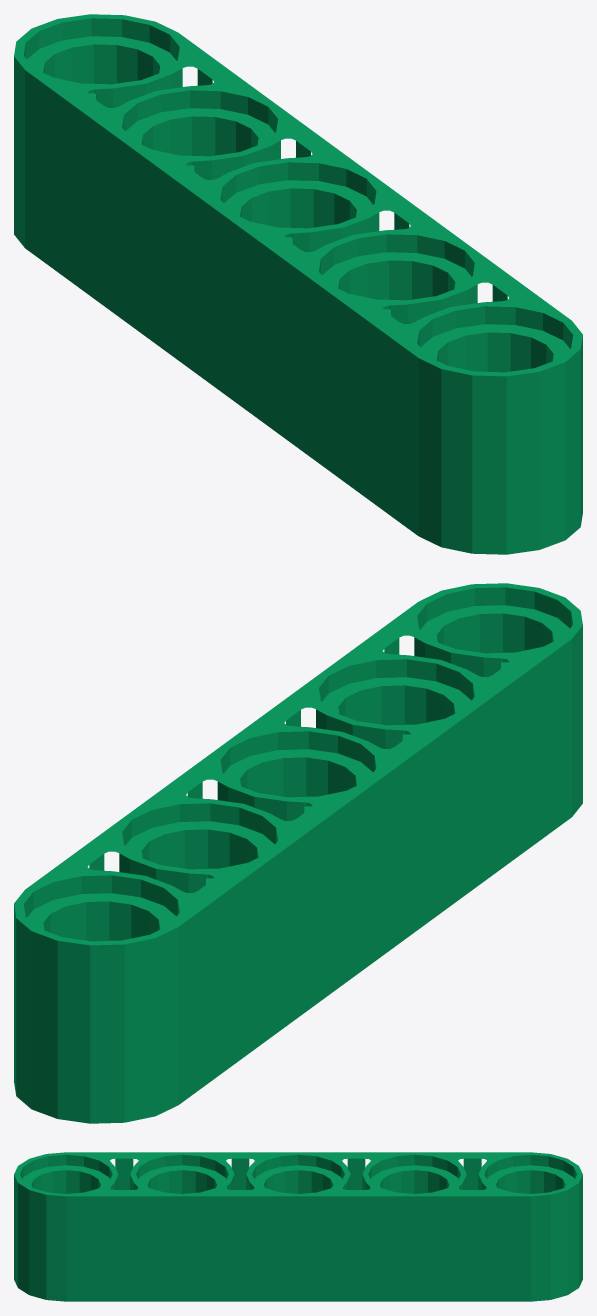
The picture shows the model from 3 angles, top to bottom: view 1: azimuth 30°, elevation 25°; view 2: azimuth 150°, elevation 25°; view 3: azimuth 270°, elevation 25°; orthographic projection. The views are drawn at different scales.
Visible parts, largest first — view 1: world; view 2: world; view 3: world.
Part boxes in pixels (box(x1,y1,x2,y2)): world: box(14, 14, 582, 554); world: box(14, 583, 582, 1123); world: box(14, 1152, 582, 1301).
Size of the model in its own units: 0.0072 by 0.008 by 0.0392.
